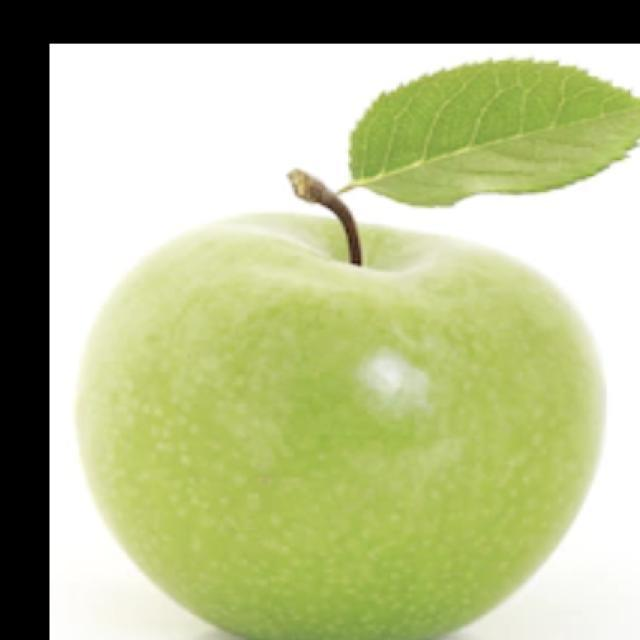Apple: (74, 170, 607, 639)
